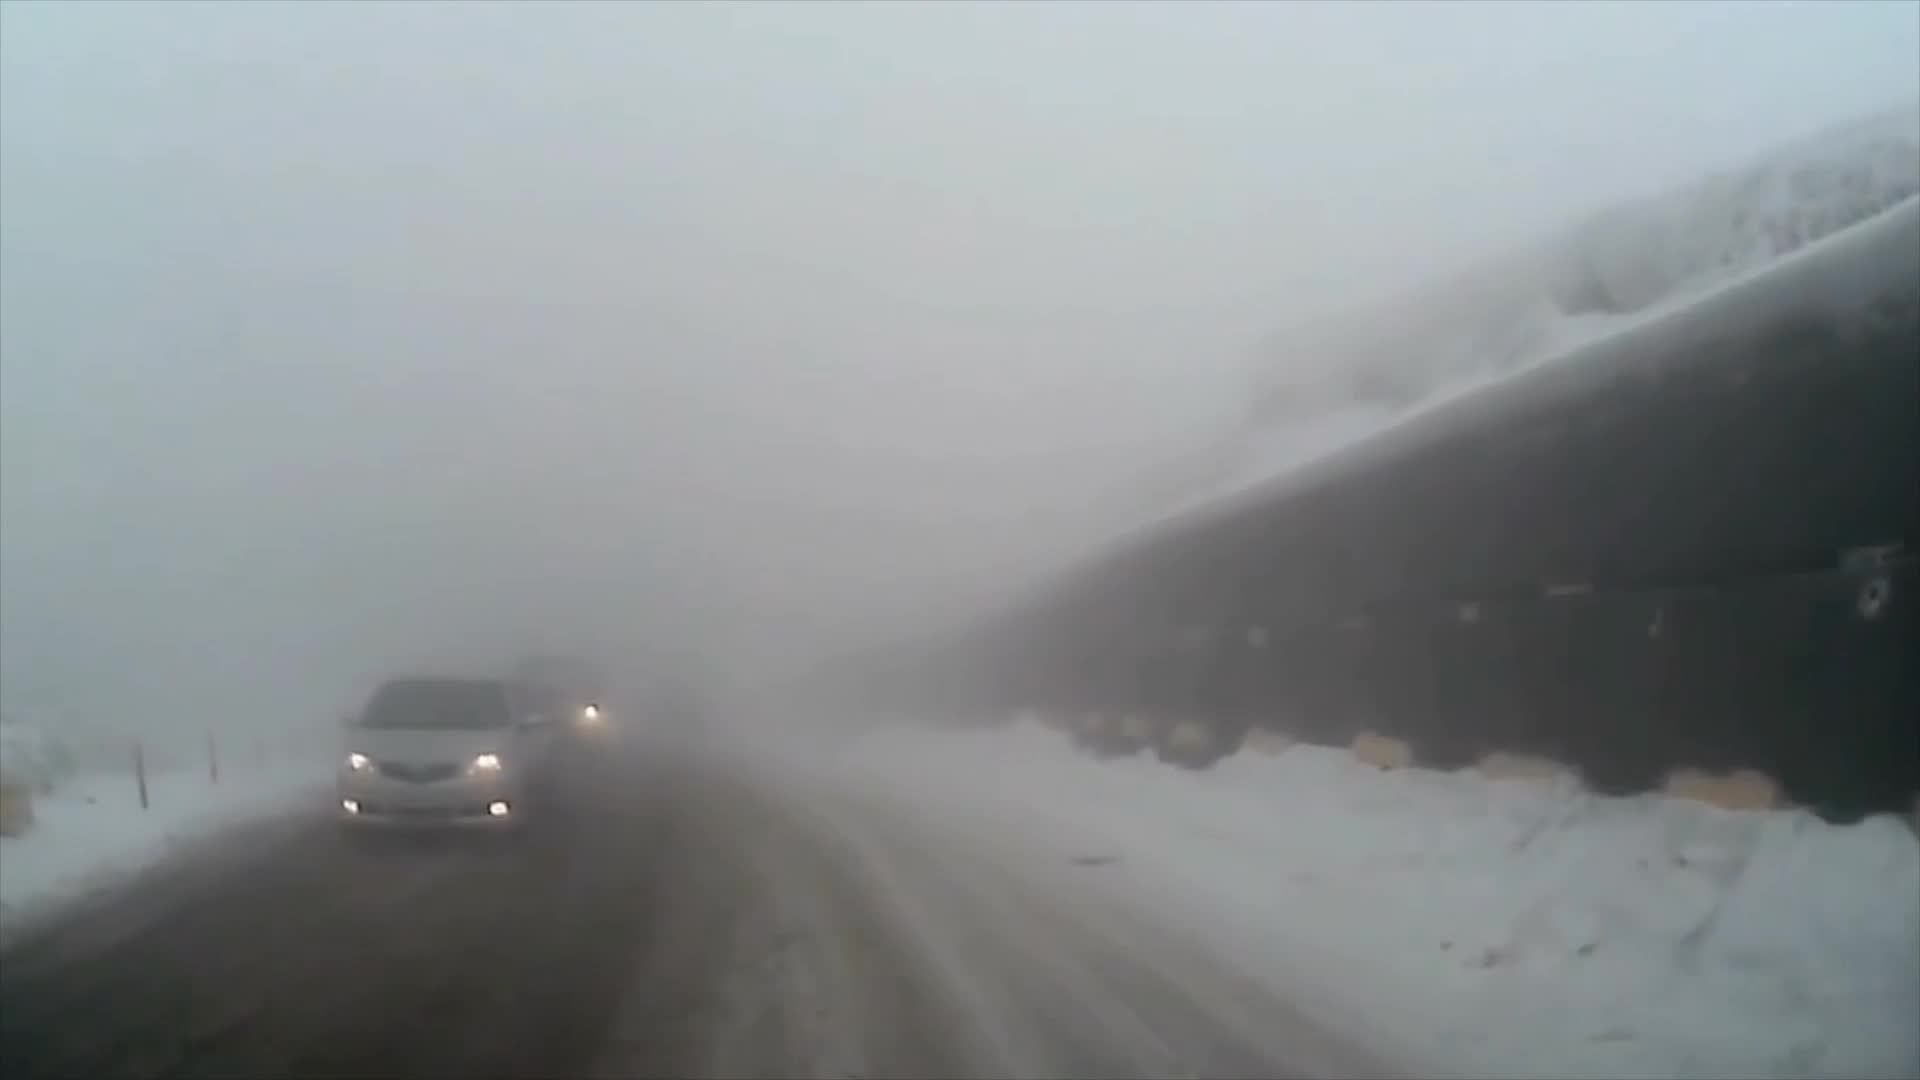vehicle: (334, 671, 553, 848)
